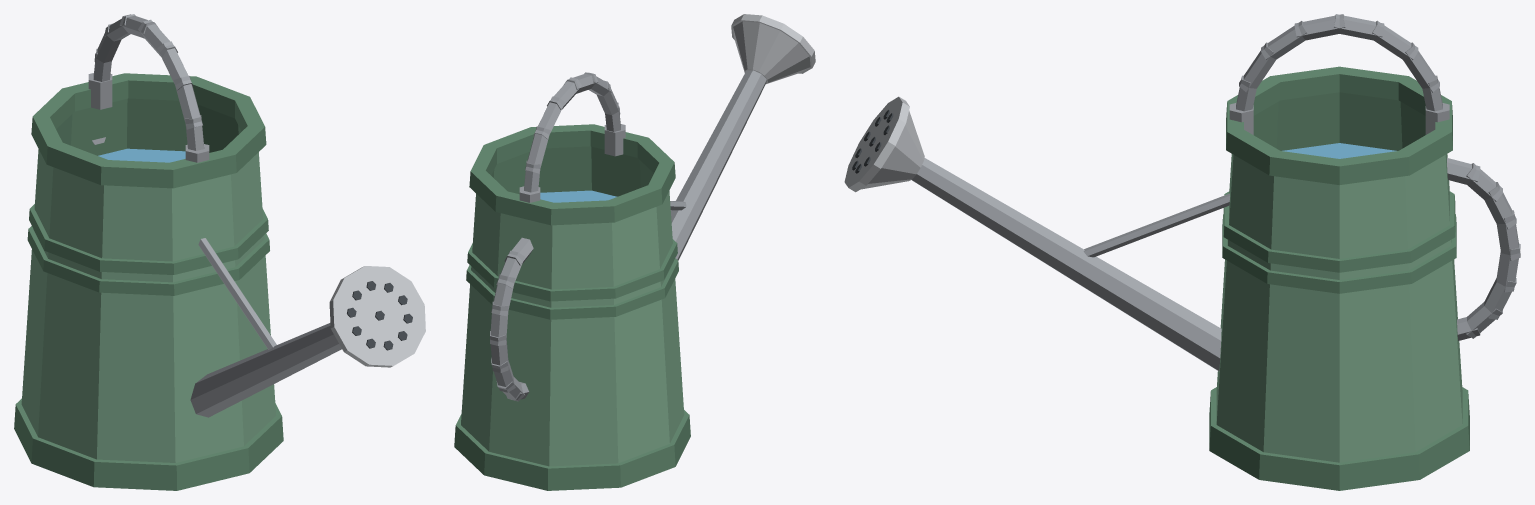
Rendered from WateringCan_Detailed.fbx.
3 renders of one model, left to right at view 1: azimuth 30°, elevation 25°; view 2: azimuth 150°, elevation 25°; view 3: azimuth 270°, elevation 25°, orthographic. The views are drawn at different scales.
Parts seen in each view (by area): view 1: WateringCan_Detailed, Can_Water; view 2: WateringCan_Detailed, Can_Water; view 3: WateringCan_Detailed, Can_Water.
Part boxes in pixels (<box>): WateringCan_Detailed: <box>14,14,425,490</box>; Can_Water: <box>98,148,185,162</box>; WateringCan_Detailed: <box>454,14,815,490</box>; Can_Water: <box>540,190,617,202</box>; WateringCan_Detailed: <box>844,14,1520,490</box>; Can_Water: <box>1282,143,1396,158</box>.
Size of the model in its own units: 0.218 by 0.3663 by 0.538.
